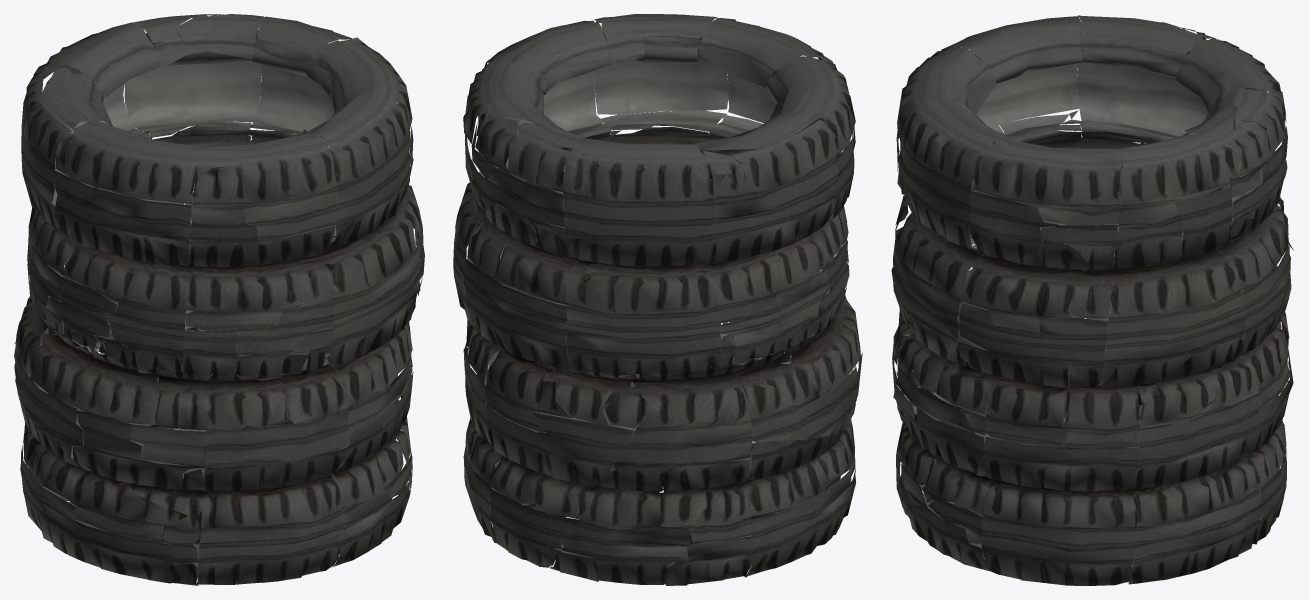
Rendered from pneus.glb.
3 views of the same model, side by side, from view 1: azimuth 30°, elevation 25°; view 2: azimuth 150°, elevation 25°; view 3: azimuth 270°, elevation 25° (orthographic).
Parts seen in each view (by area): view 1: Prop_pneus; view 2: Prop_pneus; view 3: Prop_pneus.
Part boxes in pixels (x1,y1,x2,y2): Prop_pneus: (14, 14, 424, 585); Prop_pneus: (453, 14, 862, 585); Prop_pneus: (891, 15, 1293, 585).
Size of the model in its own units: 0.9008 by 1.05 by 0.8848.
1 material, 1 textured.
